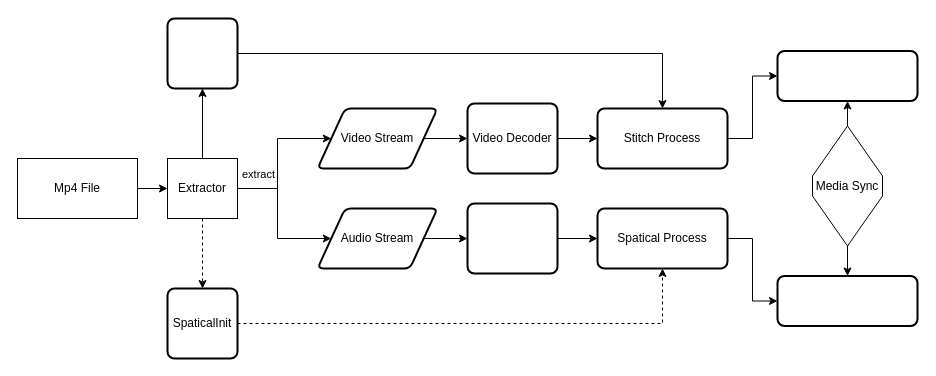
This 936x376 diagram has some shape labels left out. Each missing label, with the centre of its shape:
"Audio Decoder" goes at (x=512, y=238).
"Frame Render" goes at (x=847, y=76).
"PCM Play" goes at (x=847, y=300).
"StitchInit" goes at (x=202, y=53).
